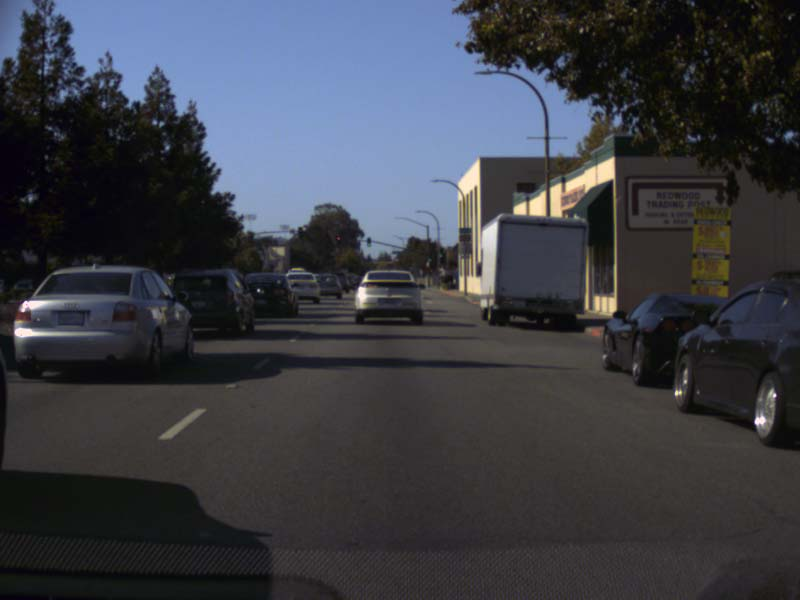Green: (438, 247, 442, 258), (367, 237, 370, 246), (428, 253, 431, 262)
Red: (335, 236, 340, 243)
